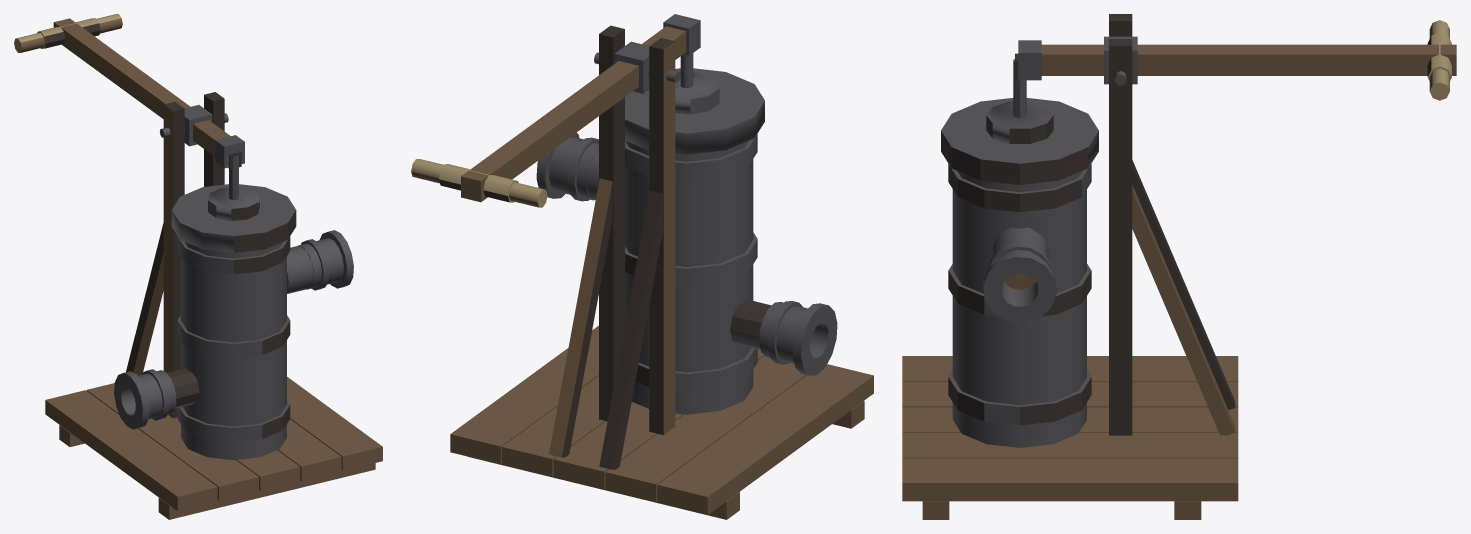
The model's file is DTP_Pump_Manual.fbx.
3 renders of one model, left to right at view 1: azimuth 30°, elevation 25°; view 2: azimuth 150°, elevation 25°; view 3: azimuth 270°, elevation 25°, orthographic. The views are drawn at different scales.
Visible parts, largest first — view 1: DTP_Pump_Manual, DTP_Pump_Manual_Lever, DTP_Pump_Manual_PistonRod; view 2: DTP_Pump_Manual, DTP_Pump_Manual_Lever; view 3: DTP_Pump_Manual, DTP_Pump_Manual_Lever, DTP_Pump_Manual_PistonRod.
Part boxes in pixels (x1,y1,x2,y2): DTP_Pump_Manual: (45, 92, 382, 519); DTP_Pump_Manual_Lever: (14, 14, 244, 168); DTP_Pump_Manual_PistonRod: (228, 151, 241, 199); DTP_Pump_Manual: (450, 25, 873, 519); DTP_Pump_Manual_Lever: (411, 14, 700, 207); DTP_Pump_Manual: (902, 14, 1238, 519); DTP_Pump_Manual_Lever: (1018, 20, 1456, 100); DTP_Pump_Manual_PistonRod: (1013, 53, 1026, 117).
Size of the model in its own units: 0.92 by 1.4 by 1.65.
